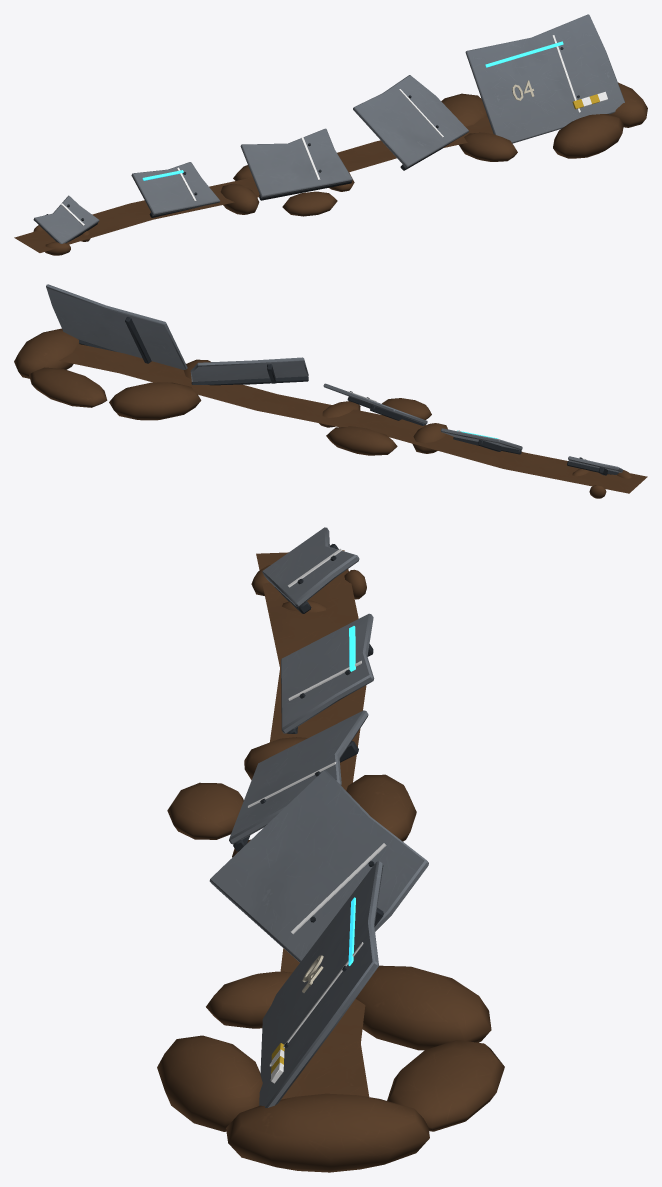
Rendered from debris_trail_panels.glb.
3 views of the same model, one above another, from view 1: azimuth 30°, elevation 25°; view 2: azimuth 150°, elevation 25°; view 3: azimuth 270°, elevation 25° (orthographic). The views are drawn at different scales.
Visible parts, largest first — view 1: debris_trail_panels; view 2: debris_trail_panels; view 3: debris_trail_panels.
Part boxes in pixels (left/top/right/bottom): debris_trail_panels: left=14, top=14, right=647, bottom=255; debris_trail_panels: left=14, top=284, right=647, bottom=498; debris_trail_panels: left=157, top=527, right=504, bottom=1172.
Bounding box in the file's own units: 8.71 × 1.32 × 2.15.
7 materials, 6 textured.
